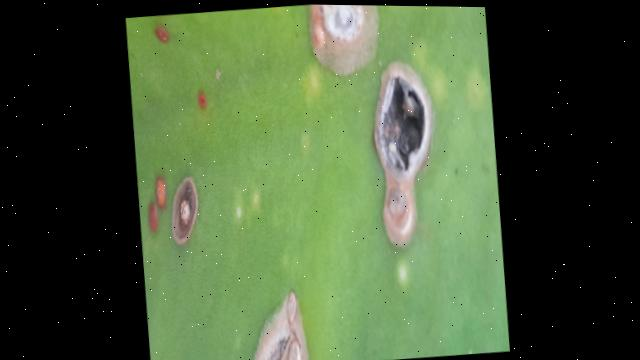stemcanker: (307, 2, 380, 78), (249, 286, 308, 360), (170, 175, 201, 245), (147, 178, 168, 232)
